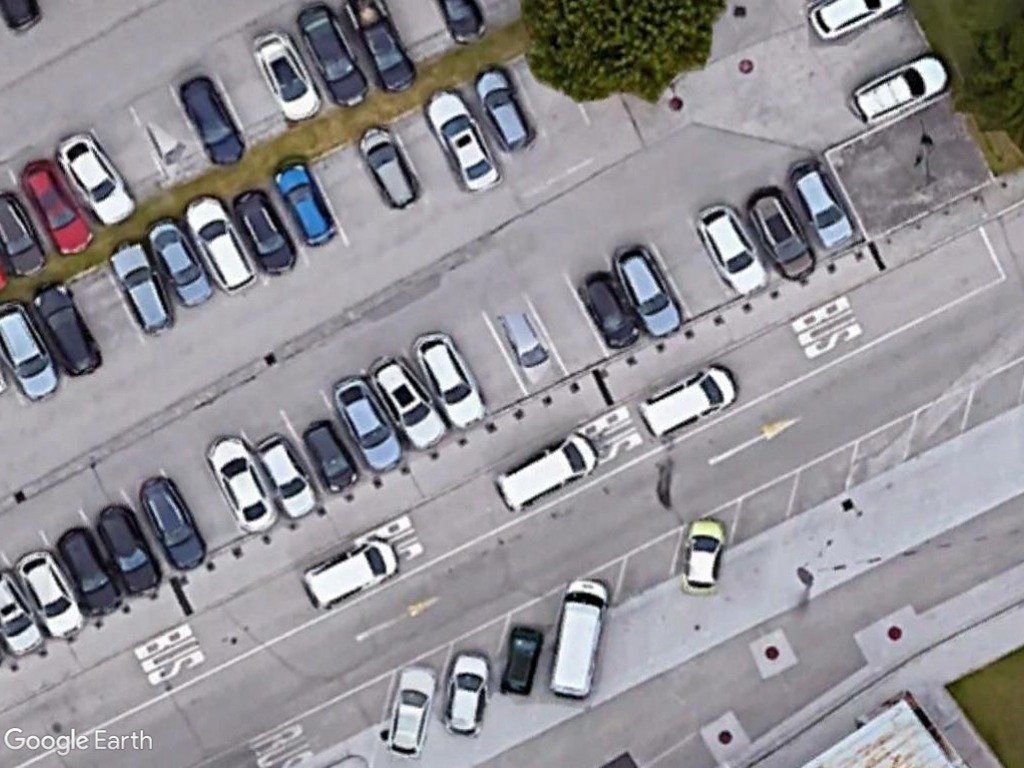car: (492, 427, 599, 515), (634, 358, 742, 442), (293, 533, 399, 616), (424, 88, 503, 198), (366, 352, 450, 452), (845, 48, 949, 128), (295, 3, 371, 111), (328, 374, 406, 478), (205, 432, 280, 539), (18, 158, 96, 259), (182, 194, 259, 296), (408, 334, 488, 432), (55, 131, 136, 227), (30, 280, 104, 379), (609, 242, 684, 339), (136, 472, 207, 574), (106, 238, 177, 338), (14, 546, 85, 643), (695, 202, 767, 297), (177, 72, 246, 169), (248, 32, 322, 122), (745, 189, 816, 282), (230, 185, 298, 279), (355, 121, 424, 213), (95, 504, 161, 600), (56, 525, 123, 619), (784, 162, 853, 252), (0, 299, 62, 399), (251, 432, 319, 523), (272, 159, 338, 252), (146, 219, 214, 309), (472, 64, 535, 155), (381, 663, 438, 760), (577, 270, 641, 352), (297, 418, 360, 496), (442, 648, 492, 738), (678, 512, 727, 598), (495, 623, 546, 699)
van: (544, 568, 615, 699)
